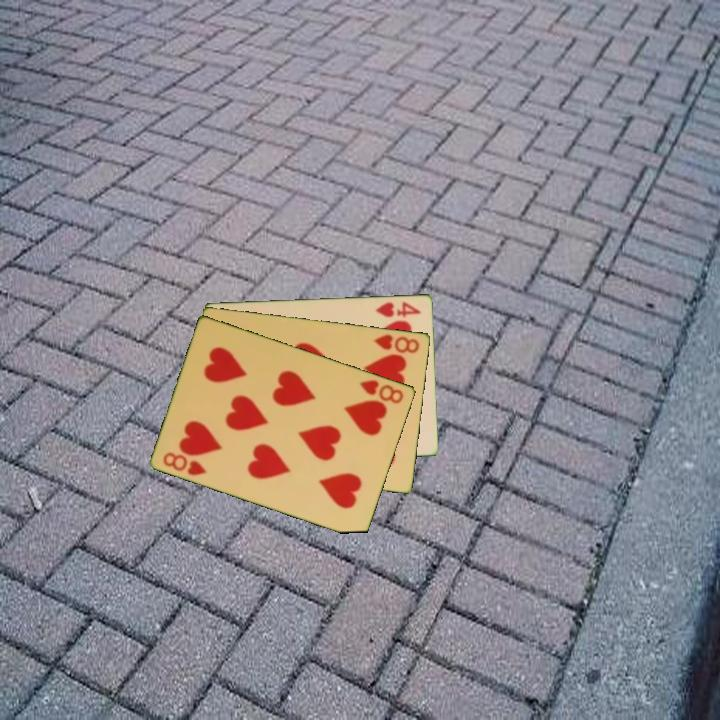4h: (372, 298, 424, 320)
8h: (356, 376, 407, 406), (160, 448, 210, 478), (371, 330, 422, 356)
